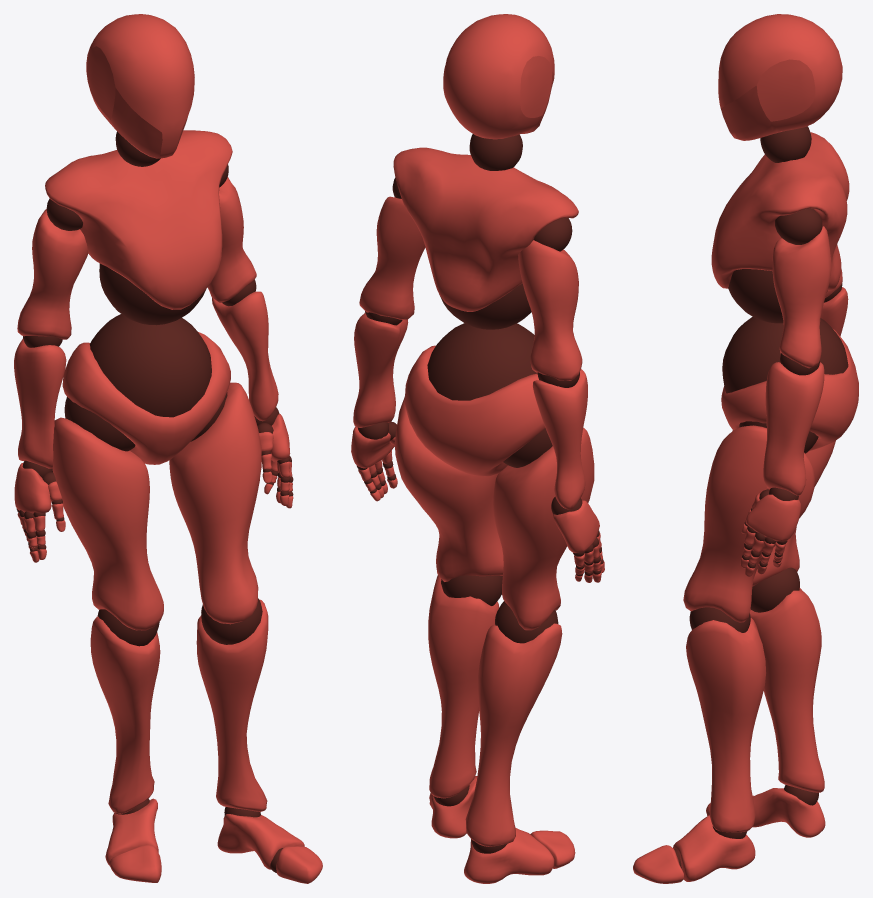
File: standing.obj
The picture shows the model from 3 angles, left to right: view 1: azimuth 30°, elevation 25°; view 2: azimuth 150°, elevation 25°; view 3: azimuth 270°, elevation 25°; orthographic projection. The views are drawn at different scales.
Visible parts, largest first — view 1: Beta_Surface, Beta_Joints; view 2: Beta_Surface, Beta_Joints; view 3: Beta_Surface, Beta_Joints.
Part boxes in pixels (bbox=[...]): Beta_Surface: bbox=[14, 14, 322, 883]; Beta_Joints: bbox=[16, 131, 293, 872]; Beta_Surface: bbox=[351, 14, 604, 883]; Beta_Joints: bbox=[356, 134, 603, 853]; Beta_Surface: bbox=[633, 14, 858, 883]; Beta_Joints: bbox=[674, 126, 848, 868].
Bounding box in the file's own units: 0.5617 × 1.8 × 0.4527.
